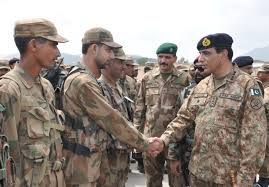uniform: (2, 65, 63, 185), (192, 71, 259, 178), (134, 70, 186, 172), (62, 68, 108, 181), (99, 75, 133, 178)
